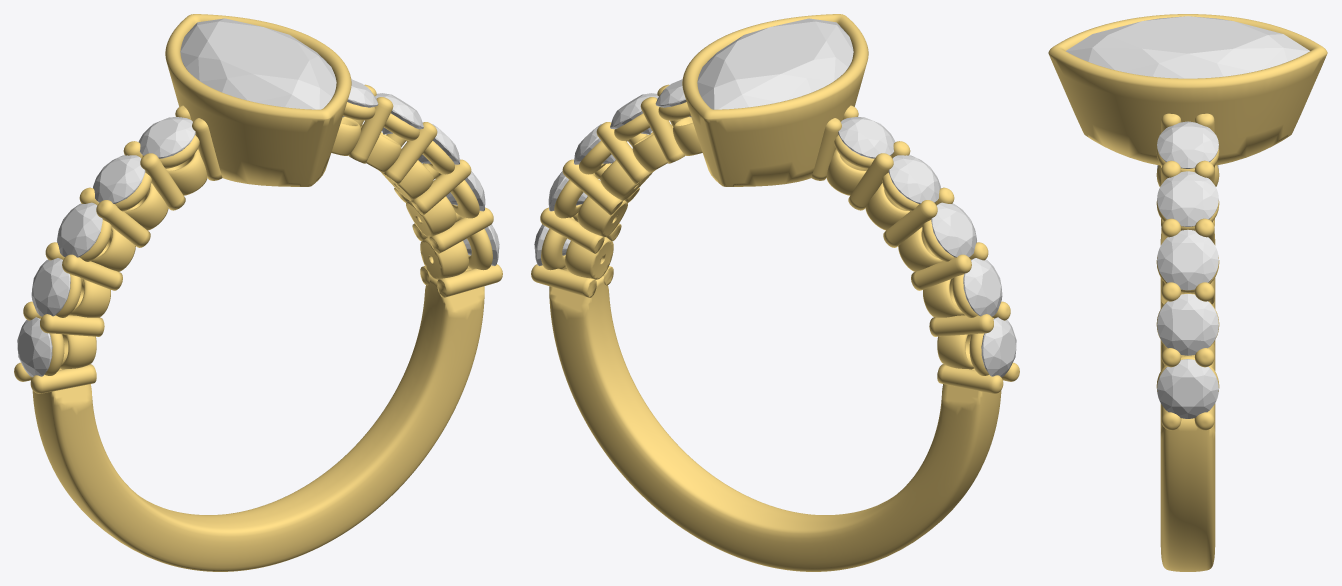
The model's file is diamond-marquise-yellowgold-bezelset-straightband-11stone.glb.
The picture shows the model from 3 angles, left to right: view 1: azimuth 30°, elevation 25°; view 2: azimuth 150°, elevation 25°; view 3: azimuth 270°, elevation 25°; orthographic projection.
Parts seen in each view (by area): view 1: metal.002, stone.002, dia.024, dia.025, dia.023, dia.026, dia.002, dia.030; view 2: metal.002, stone.002, dia.024, dia.025, dia.023, dia.026, dia.002, dia.030; view 3: metal.002, stone.002, dia.028, dia.029, dia.027, dia.030, dia.031.
Boxes of the visible parts, box(x1,y1,x2,y2) form: metal.002: box(14, 14, 502, 571); stone.002: box(180, 18, 336, 109); dia.024: box(57, 202, 102, 257); dia.025: box(93, 155, 145, 203); dia.023: box(31, 258, 70, 316); dia.026: box(138, 117, 195, 158); dia.002: box(17, 317, 52, 377); dia.030: box(375, 93, 423, 134); metal.002: box(531, 14, 1019, 571); stone.002: box(697, 18, 853, 109); dia.024: box(931, 202, 976, 257); dia.025: box(888, 155, 940, 203); dia.023: box(963, 258, 1002, 316); dia.026: box(838, 117, 895, 158); dia.002: box(981, 317, 1016, 377); dia.030: box(610, 93, 658, 134); metal.002: box(1048, 14, 1327, 571); stone.002: box(1066, 16, 1309, 78); dia.028: box(1157, 294, 1218, 355); dia.029: box(1157, 229, 1218, 290); dia.027: box(1157, 359, 1218, 418); dia.030: box(1157, 171, 1218, 226); dia.031: box(1157, 121, 1218, 168).
Bounding box in the file's own units: 22.1 × 22.94 × 11.31.
